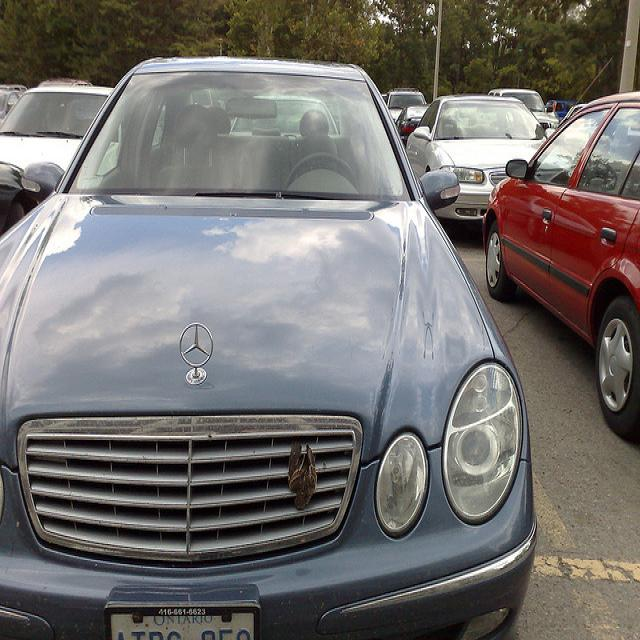Vehicle: (0, 53, 539, 640), (480, 93, 638, 440), (406, 95, 548, 226), (1, 84, 115, 172), (488, 85, 558, 133), (397, 101, 424, 140)
